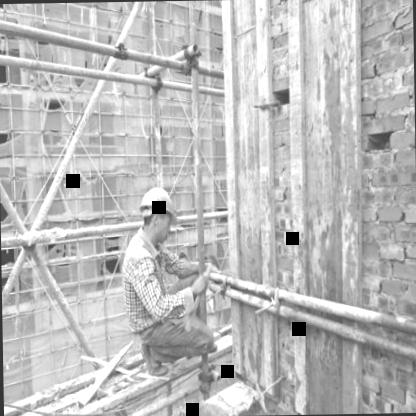helmet: (133, 184, 181, 248)
